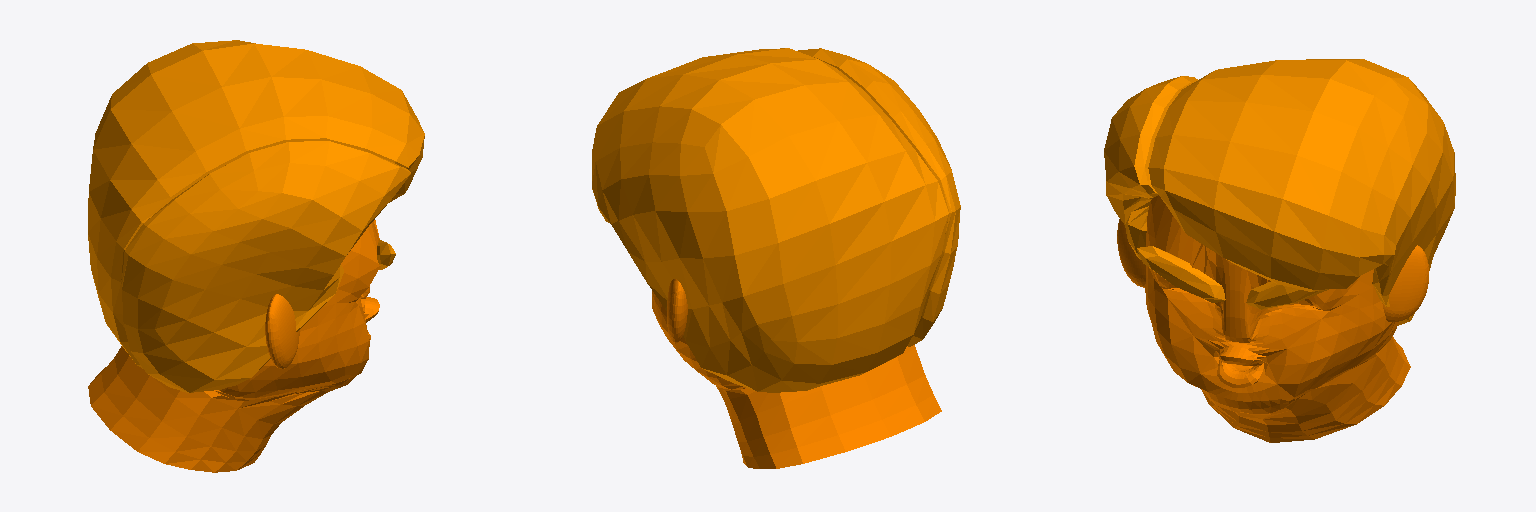
File: trump_head.obj
3 views of the same model, side by side, from view 1: azimuth 30°, elevation 25°; view 2: azimuth 150°, elevation 25°; view 3: azimuth 270°, elevation 25° (orthographic).
Visible parts, largest first — view 1: eyebrow_1.1; view 2: eyebrow_1.1; view 3: eyebrow_1.1.
Part boxes in pixels (bbox=[...]): eyebrow_1.1: bbox=[88, 40, 424, 472]; eyebrow_1.1: bbox=[592, 48, 960, 468]; eyebrow_1.1: bbox=[1104, 59, 1455, 442].
Size of the model in its own units: 30.34 by 34.49 by 29.21.